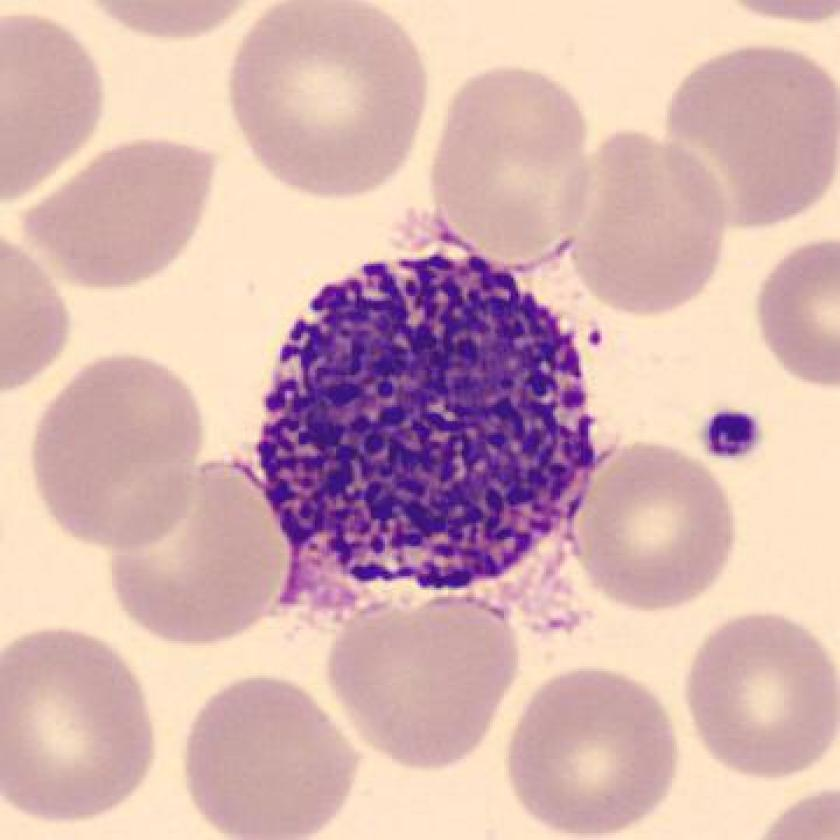basophil: (246, 233, 605, 608)
